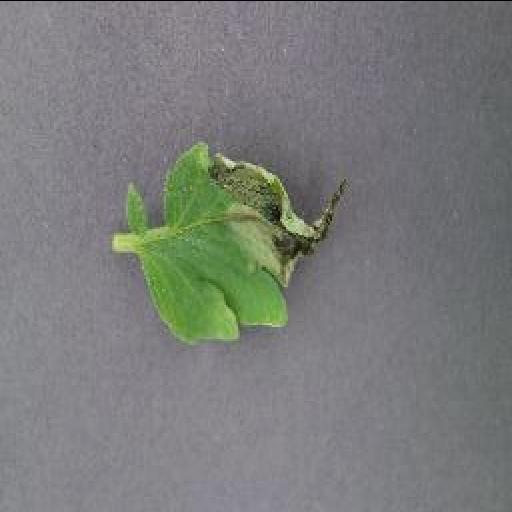disease_tomato: (124, 138, 350, 344)
